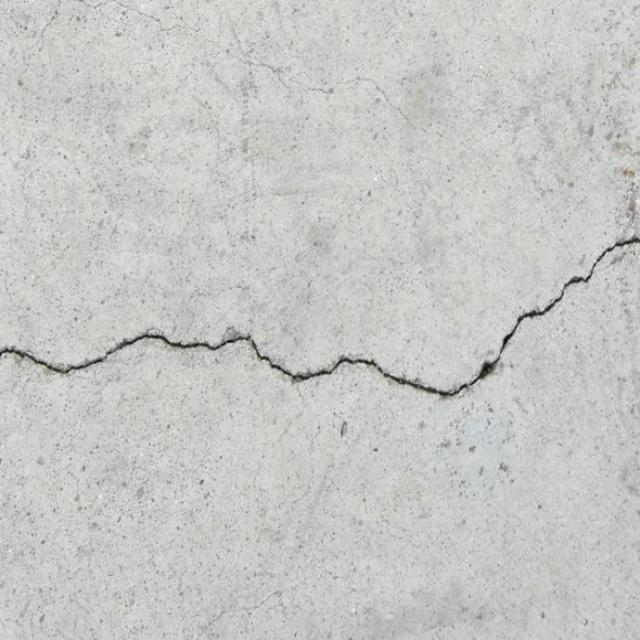diagonal crack: (75, 0, 480, 152), (200, 574, 318, 636)
horizontal crack: (0, 237, 639, 402)
multi-branched crack: (250, 383, 322, 536)
